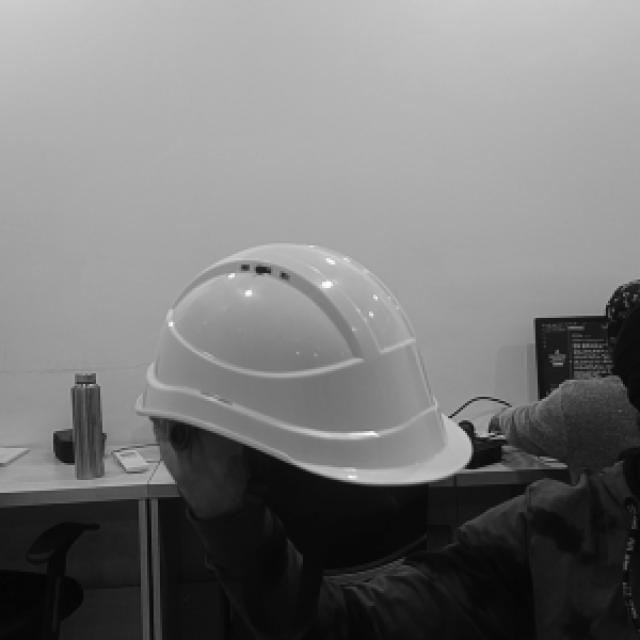safety_helmet: (136, 245, 474, 488)
